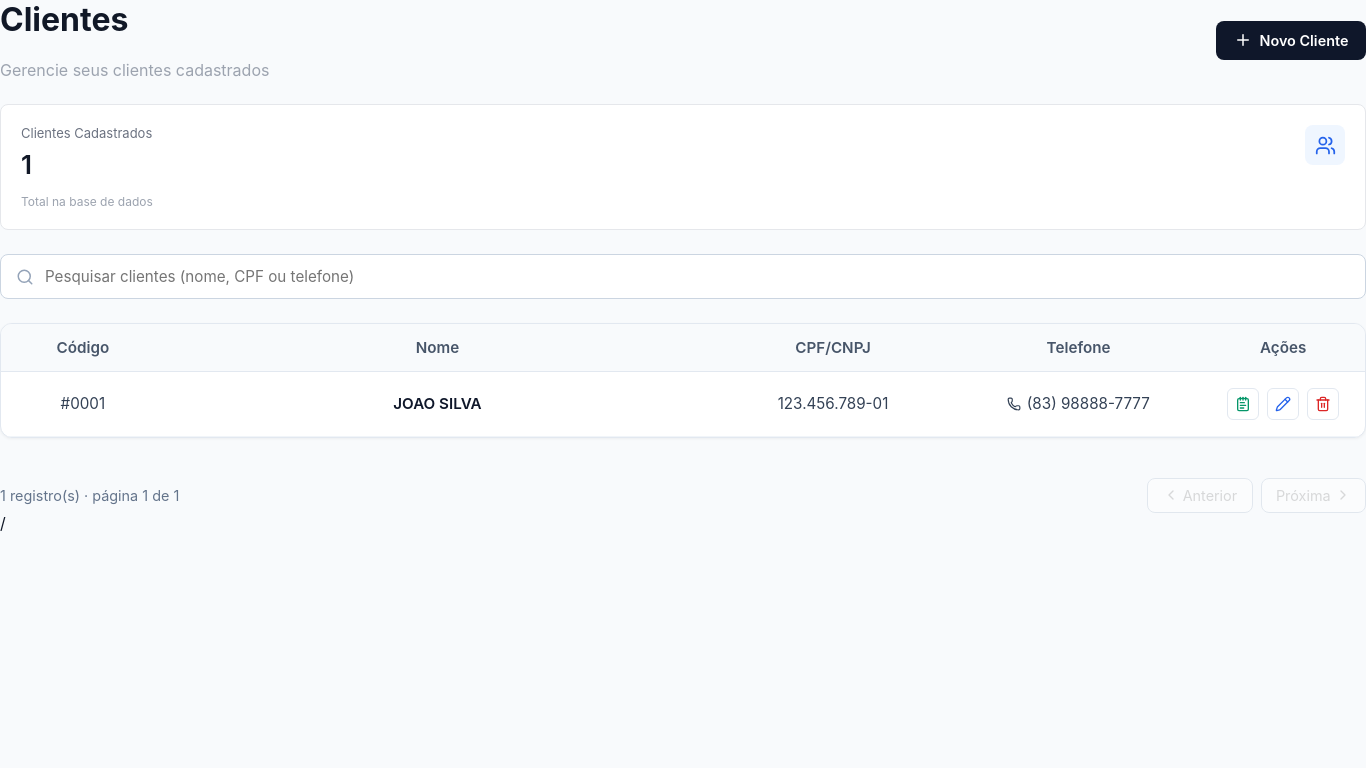
Test case: Página de Clientes › criação › abre o formulário vazio
Check: the text "JOAO SILVA" is shown, box [393,394,482,413]
What coordinates should you click on to do the following:
click the button "Novo Cliente"
I would click on:
 (1291, 40)
Its box is [1216,21,1365,60].
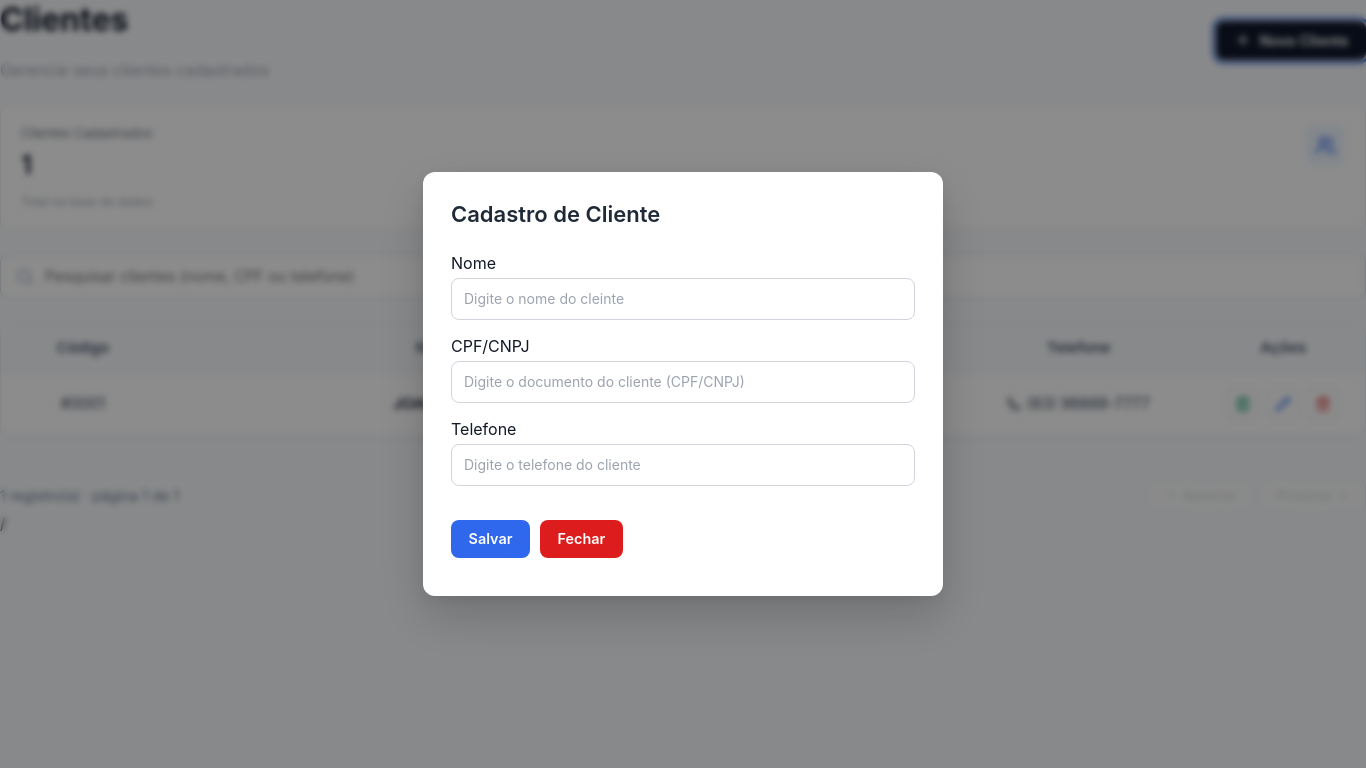
Check: the heading "Cadastro de Cliente" is shown, box [451,201,660,227]
Check: the field with placeholder "Digite o nome do cleinte" is empty, box [451,278,915,320]
